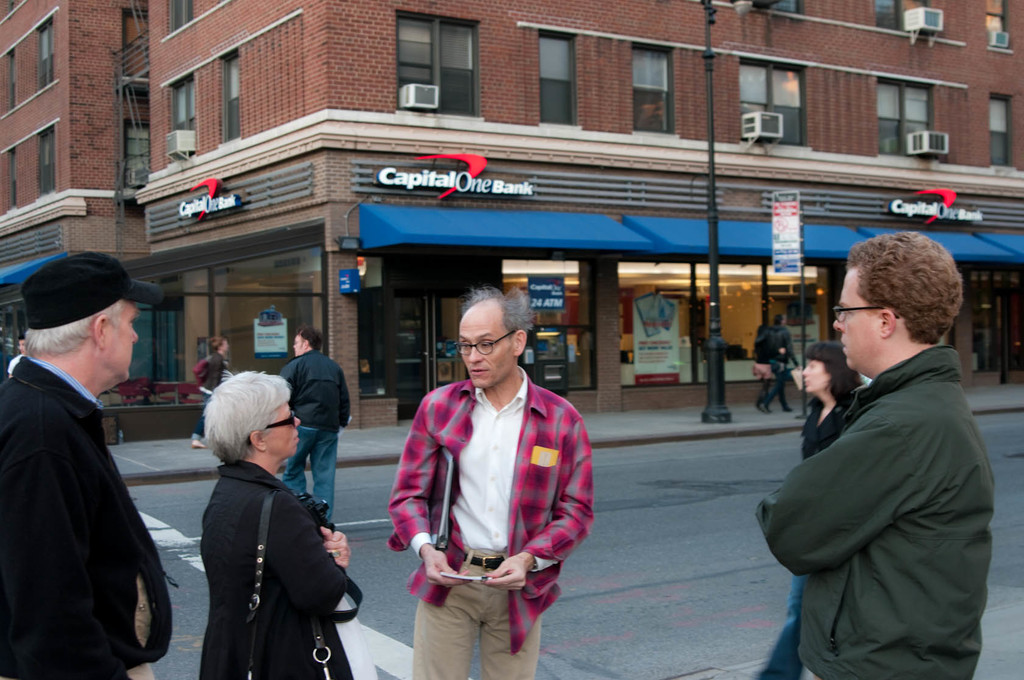Footwear: (759, 405, 770, 416), (785, 407, 793, 414), (782, 411, 794, 412)
